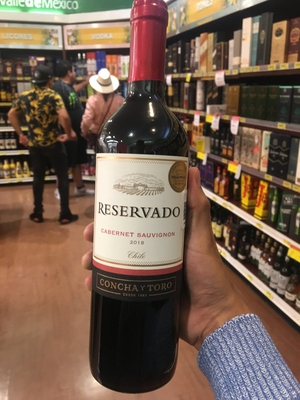reservado cabernet sauvignon: (88, 8, 194, 400)
